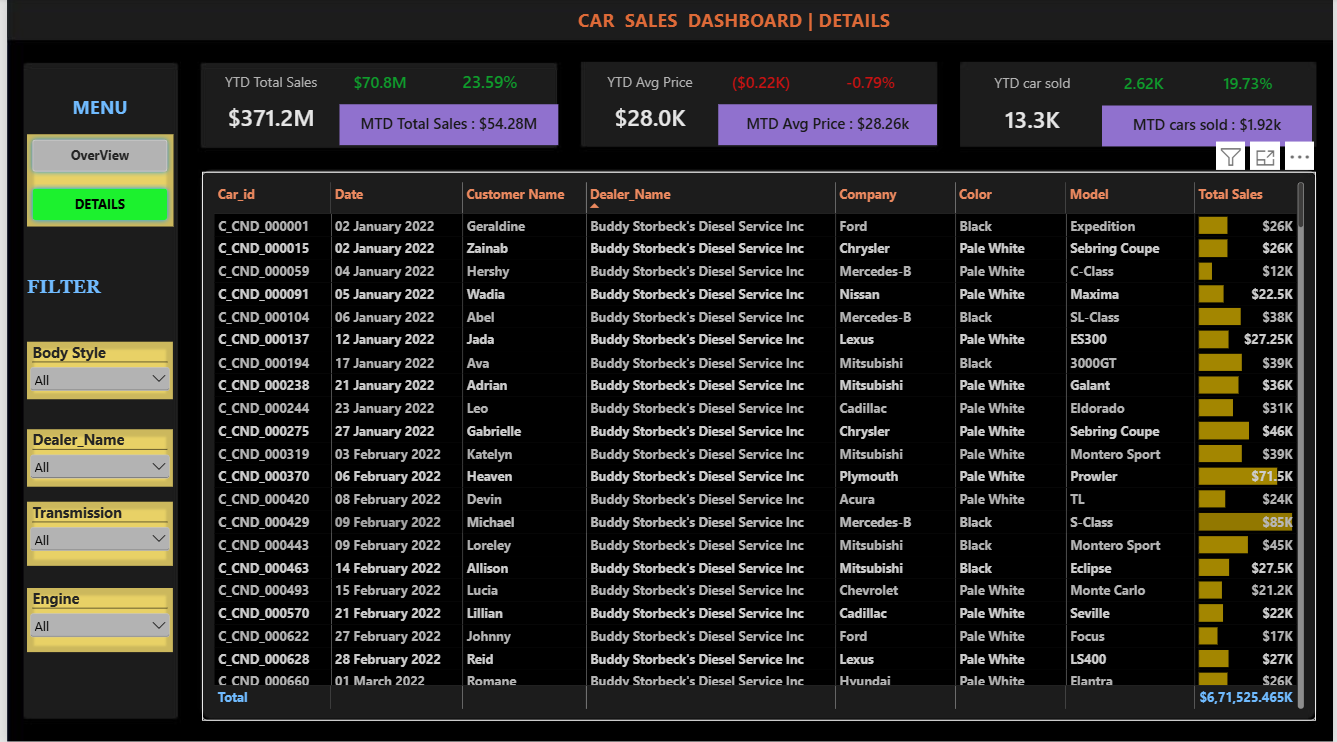

What the dashboard file says about the page in this screenshot:
{"tool":"powerbi","page":{"name":"DETAILS","canvas":[1920,1080],"ordinal":1},"visuals":[{"type":"card","title":"YTD Total Sales","fields":{"Values":["car_data.YTD Total Sales"]},"box":[281.5,92.6,200,120.4],"z":0},{"type":"card","title":"PYTD Total Sales","fields":{"Values":["car_data.Sales Difference"]},"box":[481.5,92.6,116.7,61.1],"z":1000},{"type":"card","title":"PYTD Total Sales","fields":{"Values":["car_data.YoY Sales Growth"]},"box":[598.1,92.6,200,61.1],"z":2000},{"type":"card","fields":{"Values":["car_data.MTD KPI"]},"box":[481.5,153.7,316.7,59.3],"z":3000},{"type":"card","title":"YTD Avg Price","fields":{"Values":["car_data.YTD Avg Price"]},"box":[831.5,92.6,200,120.4],"z":4000},{"type":"card","title":"PYTD Total Sales","fields":{"Values":["car_data.Avg Price Diff"]},"box":[1031.5,92.6,120.4,61.1],"z":5000},{"type":"card","title":"PYTD Total Sales","fields":{"Values":["car_data.Yoy Avg Price Growth"]},"box":[1151.9,92.6,194.4,61.1],"z":6000},{"type":"card","fields":{"Values":["car_data.MTD Avg kpi"]},"box":[1029.6,153.7,316.7,59.3],"z":7000},{"type":"card","title":"YTD car sold","fields":{"Values":["car_data.YTD car sold"]},"box":[1385.2,94.4,200,120.4],"z":8000},{"type":"card","title":"PYTD Total Sales","fields":{"Values":["car_data.Cars sold diff"]},"box":[1585.2,94.4,120.4,61.1],"z":9000},{"type":"card","title":"PYTD Total Sales","fields":{"Values":["car_data.YOY car sold grow"]},"box":[1705.6,94.4,183.3,61.1],"z":10000},{"type":"card","fields":{"Values":["car_data.MTD cars sold kpi"]},"box":[1585.2,155.6,303.7,59.3],"z":11000},{"type":"textbox","box":[481.5,13,1142.6,48.1],"z":17000},{"type":"slicer","fields":{"Values":["car_data.Body Style"]},"box":[29.6,498.1,211.1,83.3],"z":18000},{"type":"slicer","fields":{"Values":["car_data.Dealer_Name"]},"box":[29.6,624.1,211.1,83.3],"z":19000},{"type":"slicer","fields":{"Values":["car_data.Transmission"]},"box":[29.6,729.6,211.1,92.6],"z":20000},{"type":"slicer","fields":{"Values":["car_data.Engine"]},"box":[29.6,853.7,211.1,92.6],"z":21000},{"type":"tableEx","fields":{"Values":["car_data.Car_id","car_data.Date","car_data.Customer Name","car_data.Dealer_Name","car_data.Company","car_data.Color","car_data.Model","Sum(car_data.Price ($))"]},"box":[282.3,251.5,1612.4,794.4],"z":22001},{"type":"pageNavigator","box":[29,197.3,211.7,133.9],"z":22002},{"type":"textbox","box":[29,139.3,211.7,57.9],"z":22003},{"type":"textbox","box":[29,401.7,211.7,59.7],"z":22004}]}

Visuals, with their boxes in screenshot pixels (x1, y1, x2, y2), scaled from the page's 1920x1080 canvas onto the 1337x742 screenshot:
"YTD Total Sales" card: bbox=[196, 64, 335, 146]
"PYTD Total Sales" card: bbox=[335, 64, 417, 106]
"PYTD Total Sales" card: bbox=[416, 64, 556, 106]
card - car_data.MTD KPI: bbox=[335, 106, 556, 146]
"YTD Avg Price" card: bbox=[579, 64, 718, 146]
"PYTD Total Sales" card: bbox=[718, 64, 802, 106]
"PYTD Total Sales" card: bbox=[802, 64, 938, 106]
card - car_data.MTD Avg kpi: bbox=[717, 106, 938, 146]
"YTD car sold" card: bbox=[965, 65, 1104, 148]
"PYTD Total Sales" card: bbox=[1104, 65, 1188, 107]
"PYTD Total Sales" card: bbox=[1188, 65, 1315, 107]
card - car_data.MTD cars sold kpi: bbox=[1104, 107, 1315, 148]
textbox: bbox=[335, 9, 1131, 42]
slicer - car_data.Body Style: bbox=[21, 342, 168, 399]
slicer - car_data.Dealer_Name: bbox=[21, 429, 168, 486]
slicer - car_data.Transmission: bbox=[21, 501, 168, 565]
slicer - car_data.Engine: bbox=[21, 587, 168, 650]
tableEx - car_data.Car_id x car_data.Date: bbox=[197, 173, 1319, 719]
pageNavigator: bbox=[20, 136, 168, 228]
textbox: bbox=[20, 96, 168, 135]
textbox: bbox=[20, 276, 168, 317]
